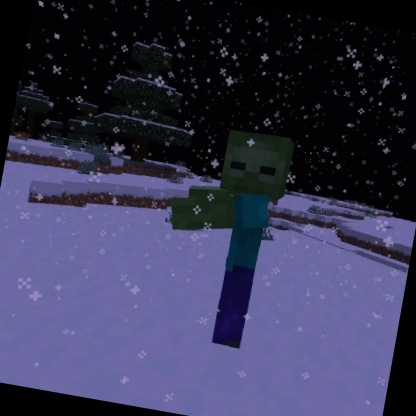zombie: (142, 113, 303, 359)
